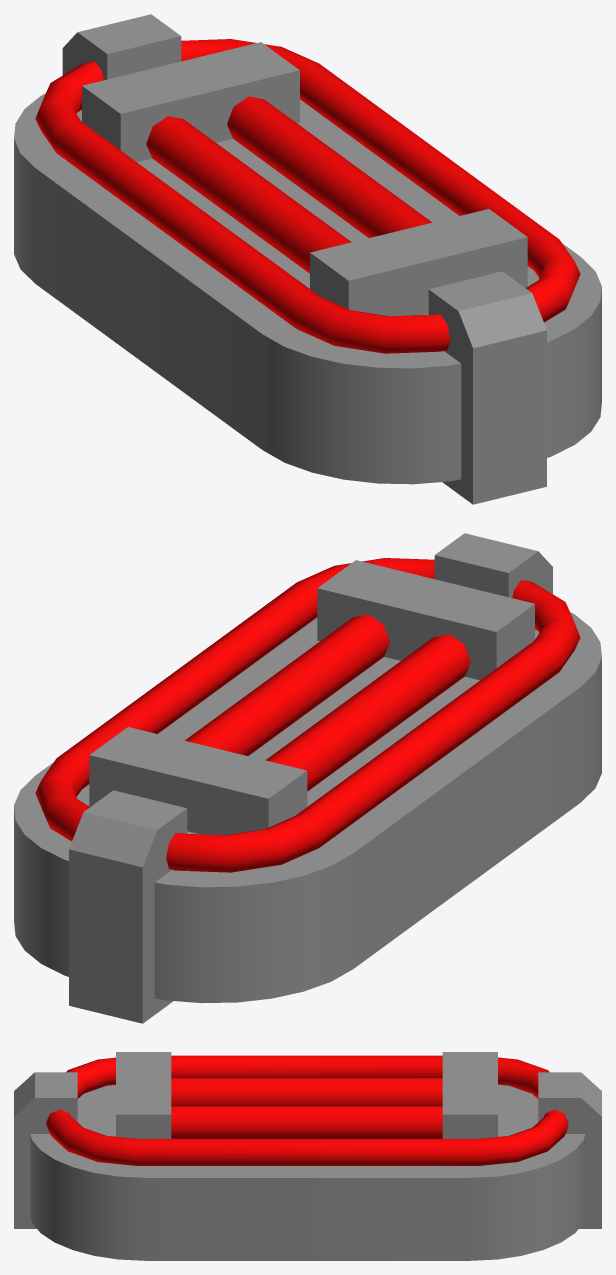
File: m_Prop_Lever_Lamp.FBX
3 renders of one model, top to bottom at view 1: azimuth 30°, elevation 25°; view 2: azimuth 150°, elevation 25°; view 3: azimuth 270°, elevation 25°, orthographic. The views are drawn at different scales.
Parts seen in each view (by area): view 1: Rectangle008; view 2: Rectangle008; view 3: Rectangle008.
Part boxes in pixels (x1,y1,x2,y2): Rectangle008: (14,14,601,504); Rectangle008: (14,533,601,1023); Rectangle008: (14,1052,601,1260).
Bounding box in the file's own units: 17.29 × 38.63 × 9.6.
